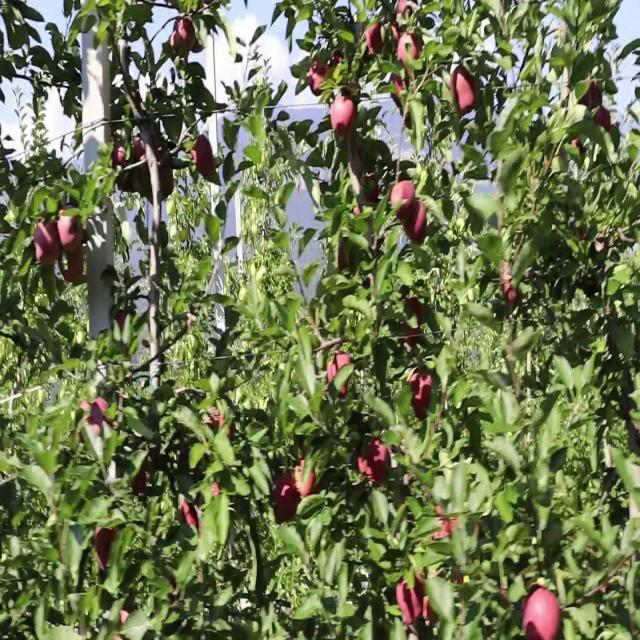apple: (524, 590, 561, 639), (396, 575, 425, 628), (360, 440, 391, 489), (272, 476, 300, 526), (408, 369, 434, 421), (400, 298, 425, 350), (452, 71, 480, 116), (36, 220, 61, 268), (60, 206, 86, 251), (404, 199, 428, 247), (80, 398, 108, 439), (392, 177, 416, 222), (92, 526, 118, 567), (328, 355, 352, 398), (332, 99, 357, 140), (60, 248, 85, 288), (400, 35, 424, 76), (296, 462, 323, 498), (88, 398, 113, 436), (172, 21, 195, 62), (192, 135, 215, 176), (204, 412, 236, 441), (308, 56, 329, 100), (328, 362, 351, 402), (348, 142, 372, 180), (156, 156, 176, 201), (433, 504, 456, 542), (360, 170, 381, 208), (504, 270, 522, 311), (200, 135, 216, 181), (180, 497, 203, 528), (368, 21, 386, 57), (580, 85, 603, 112), (132, 462, 149, 496), (136, 163, 152, 199), (332, 355, 352, 382), (340, 234, 354, 272), (424, 597, 441, 628), (112, 142, 129, 172), (396, 1, 415, 27), (596, 106, 612, 135), (132, 135, 147, 164), (328, 56, 345, 80), (200, 156, 216, 181), (392, 78, 407, 103), (452, 568, 469, 590), (120, 170, 134, 194), (152, 127, 162, 160), (116, 312, 129, 334), (392, 21, 403, 44), (572, 142, 584, 156)
